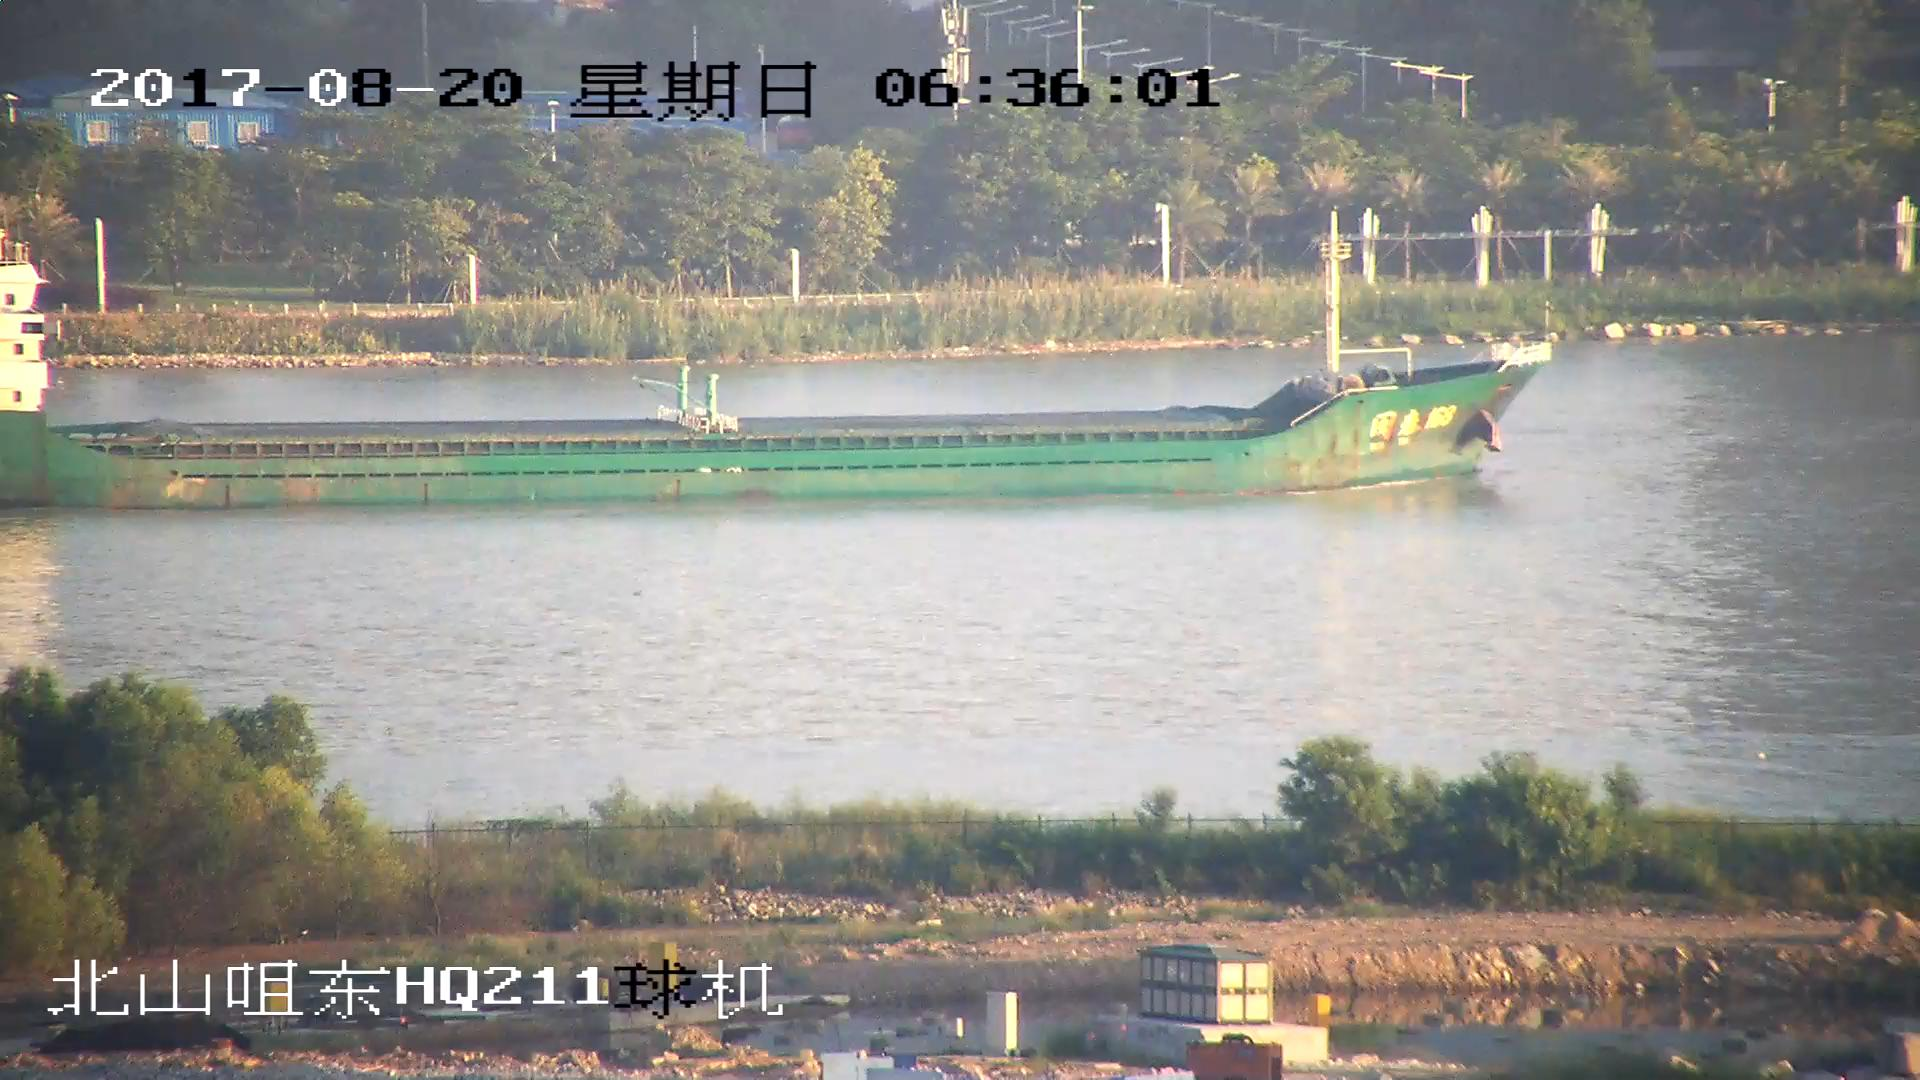general cargo ship: (1, 234, 1545, 516)
